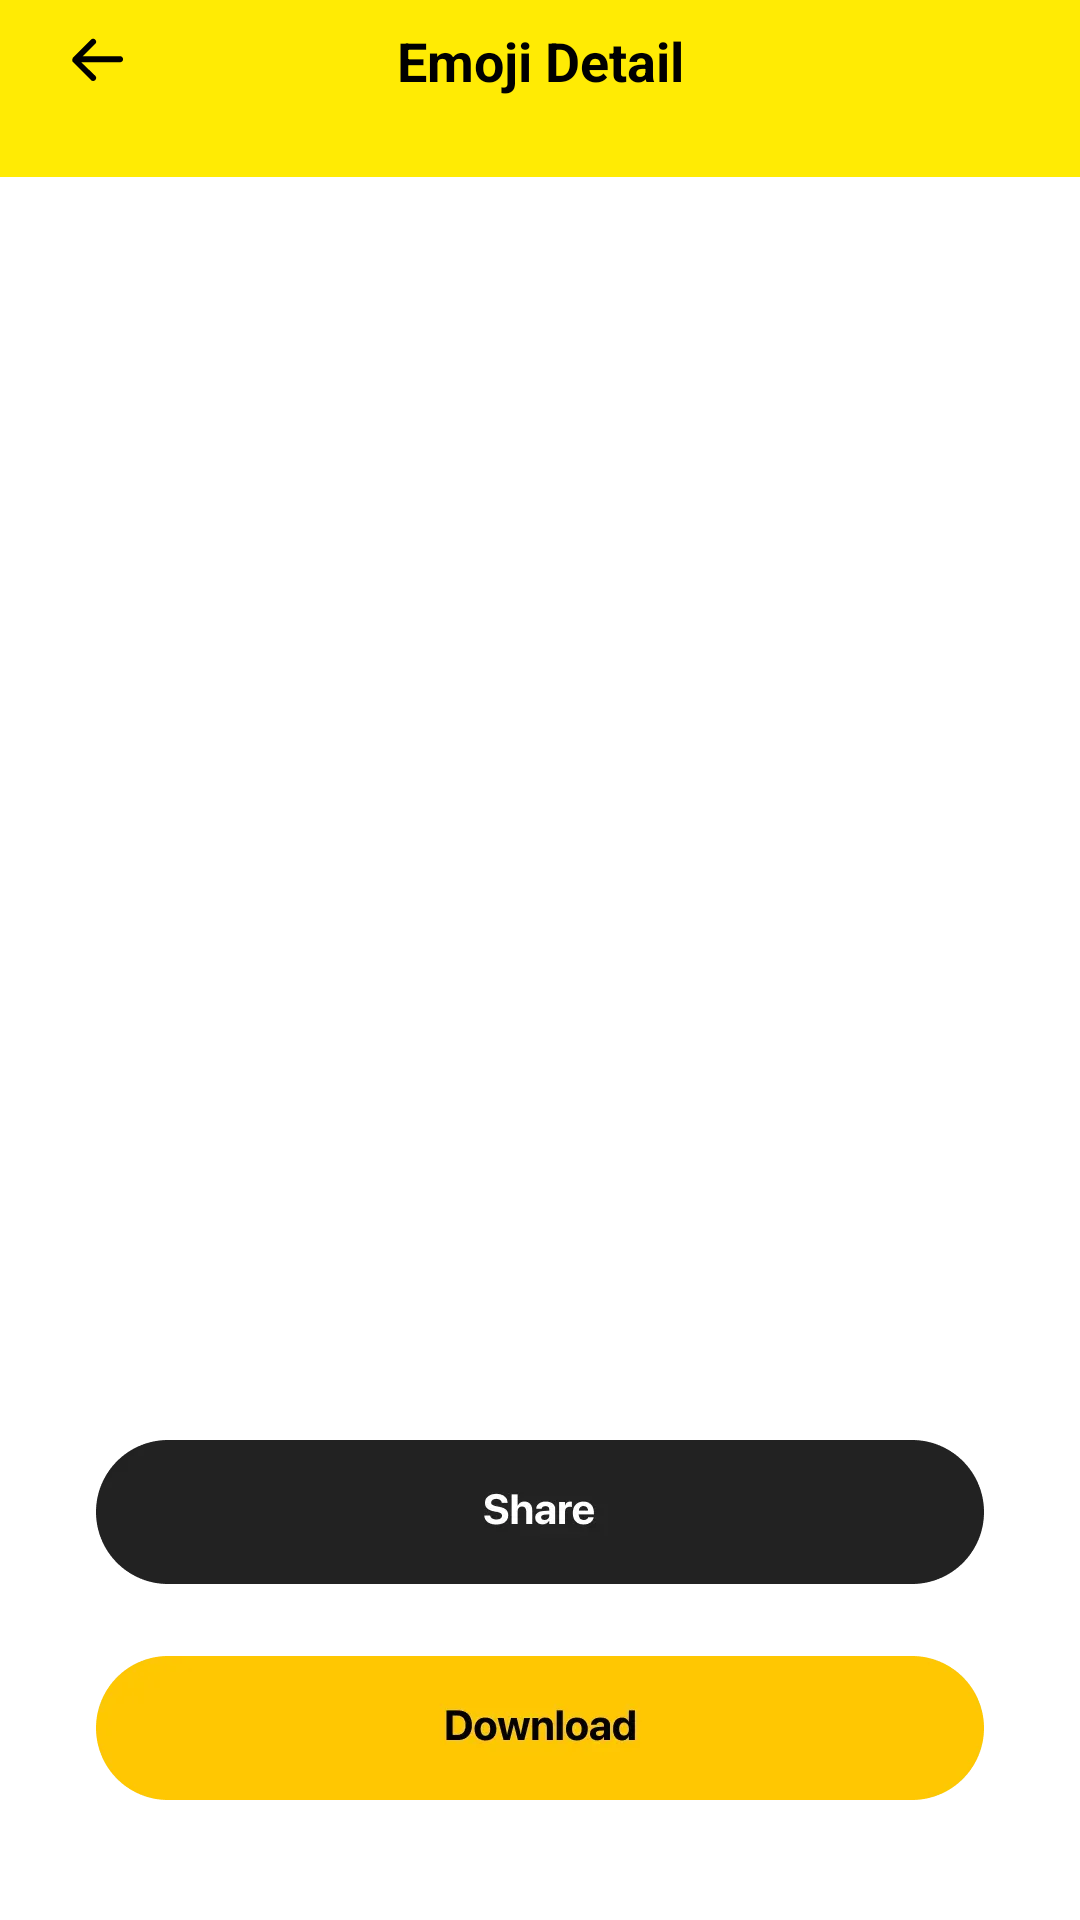

Named icons in this screenshot (1080 x 1920) and their bounding boxes, (x1, y1, x2, y2):
back: (72, 38, 123, 81)
